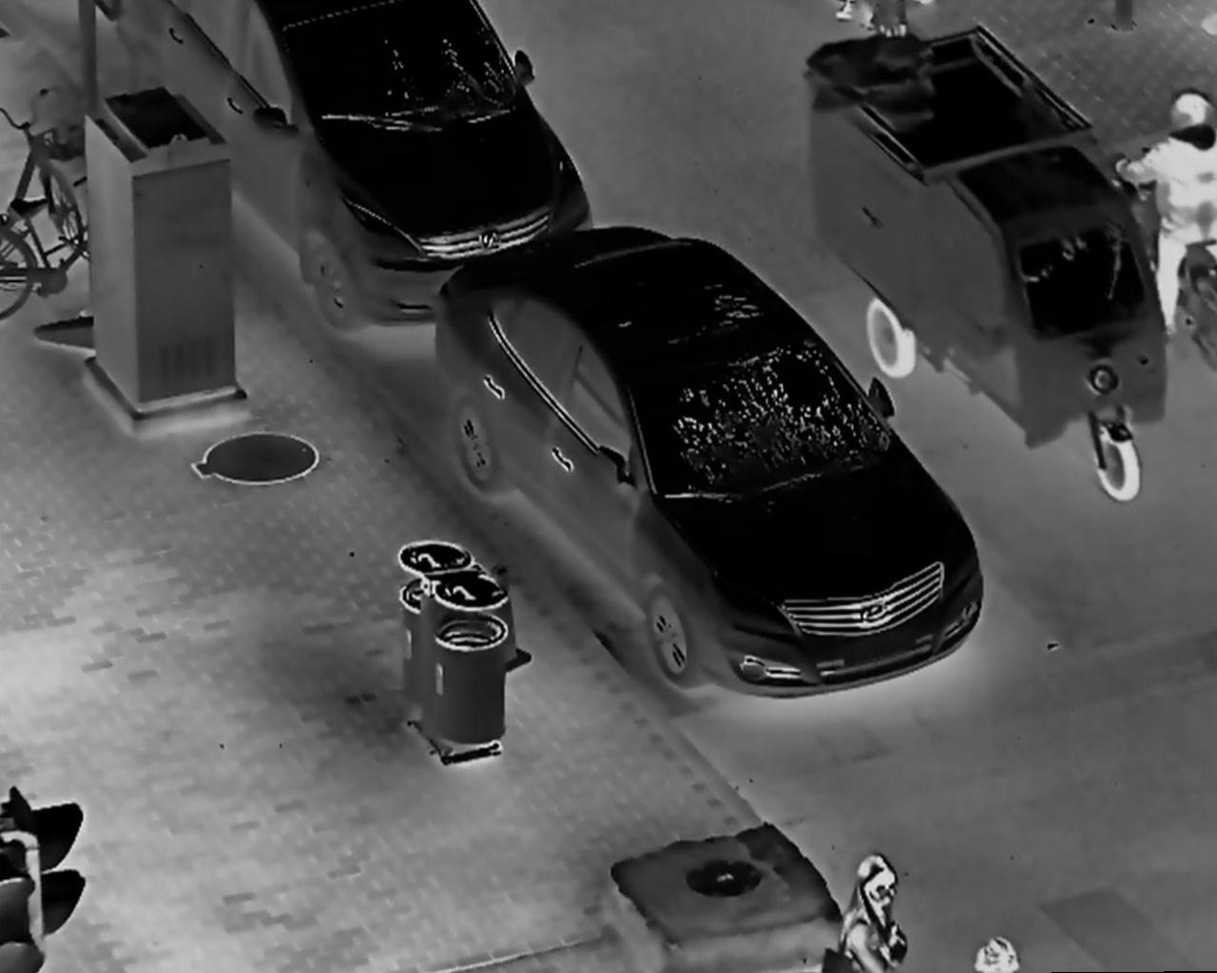person: (1108, 81, 1217, 340), (826, 853, 910, 973)
